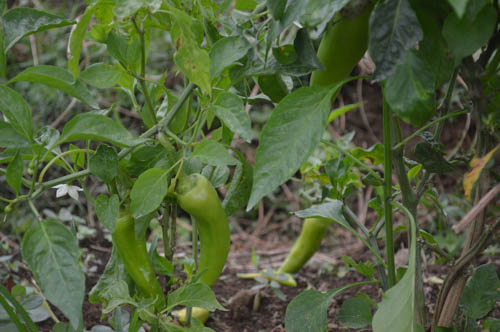ChiliPepper: (181, 176, 230, 288), (311, 15, 375, 99), (114, 213, 164, 307), (278, 217, 330, 277)
